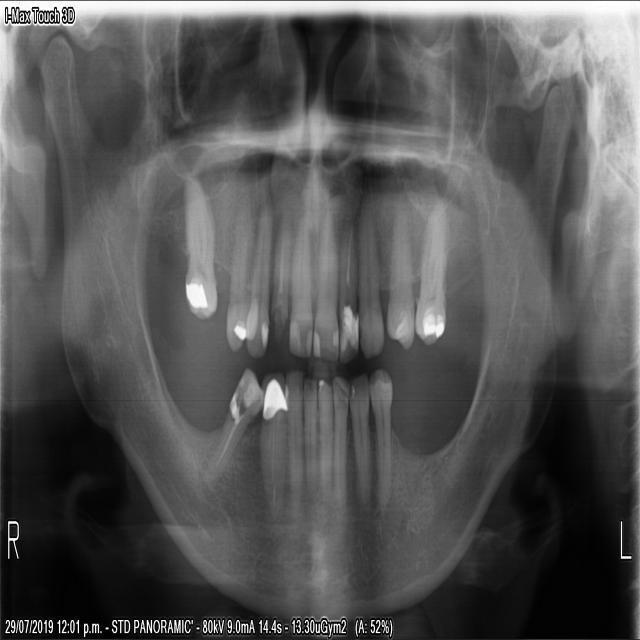LCD: (348, 364, 372, 512)
LCU: (355, 195, 385, 364)
LID: (328, 368, 353, 513), (314, 368, 333, 503)
LIU: (310, 211, 339, 364), (336, 212, 360, 363)
LMU: (411, 195, 452, 350), (384, 198, 414, 355)
LPMD: (367, 359, 393, 516)
RCD: (257, 365, 288, 530)
RCU: (242, 198, 273, 359)
RID: (281, 362, 303, 522), (300, 369, 320, 499)
RIU: (285, 203, 313, 362), (268, 205, 292, 352)
RMU: (181, 168, 219, 325)
RPMD: (200, 359, 264, 487)
RPMU: (222, 191, 255, 357)
